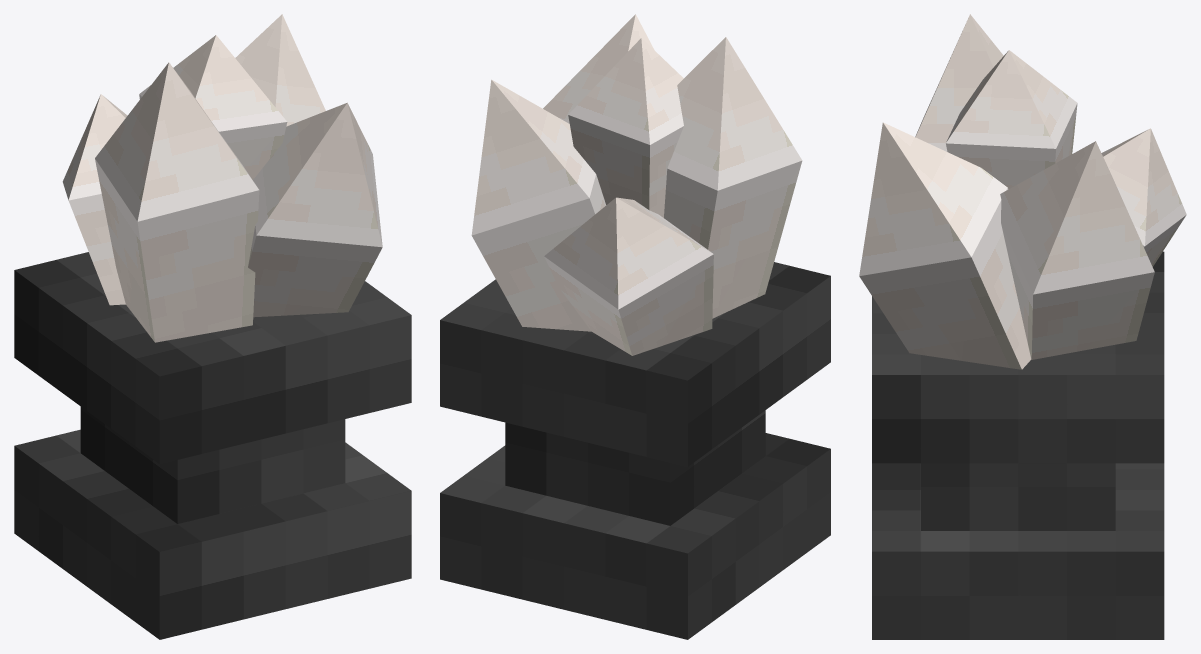
The model's file is port.obj.
The picture shows the model from 3 angles, left to right: view 1: azimuth 30°, elevation 25°; view 2: azimuth 150°, elevation 25°; view 3: azimuth 270°, elevation 25°; orthographic projection. The views are drawn at different scales.
Visible parts, largest first — view 1: crystal.004, Cube.001, Cube, Cube.002; view 2: crystal.004, Cube, Cube.001, Cube.002; view 3: crystal.004, Cube, Cube.001, Cube.002.
Boxes of the visible parts, bbox=[...] form: crystal.004: bbox=[62, 14, 382, 342]; Cube.001: bbox=[14, 252, 411, 463]; Cube: bbox=[14, 429, 411, 639]; Cube.002: bbox=[80, 407, 345, 523]; crystal.004: bbox=[471, 14, 802, 355]; Cube: bbox=[440, 433, 830, 639]; Cube.001: bbox=[440, 262, 830, 466]; Cube.002: bbox=[505, 410, 765, 525]; crystal.004: bbox=[859, 14, 1186, 369]; Cube: bbox=[872, 463, 1164, 639]; Cube.001: bbox=[872, 251, 1164, 463]; Cube.002: bbox=[921, 463, 1115, 530].
Bounding box in the file's own units: 0.4019 × 0.7514 × 0.4203.
